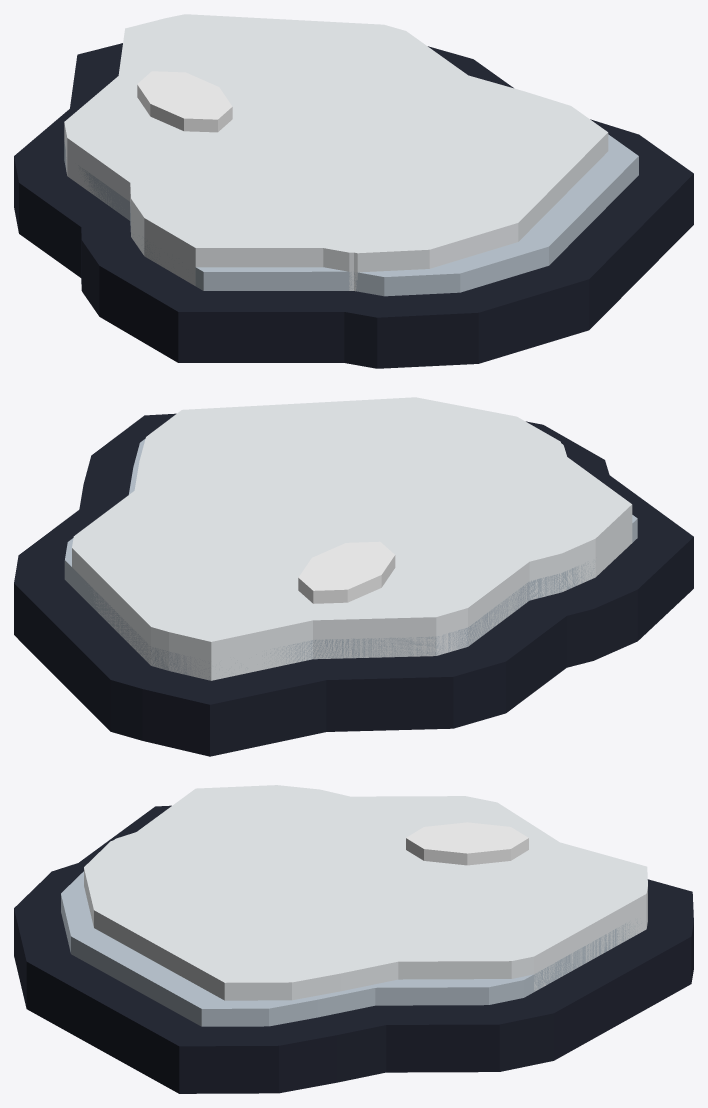
The model's file is winter_fur.fbx.
3 renders of one model, top to bottom at view 1: azimuth 30°, elevation 25°; view 2: azimuth 150°, elevation 25°; view 3: azimuth 270°, elevation 25°, orthographic. The views are drawn at different scales.
Parts seen in each view (by area): view 1: winter_fur; view 2: winter_fur; view 3: winter_fur.
Part boxes in pixels (bbox=[...]): winter_fur: bbox=[14, 14, 693, 368]; winter_fur: bbox=[14, 397, 693, 756]; winter_fur: bbox=[14, 785, 693, 1093].
Bounding box in the file's own units: 0.8846 × 0.16 × 1.04.
1 material, 1 textured.
